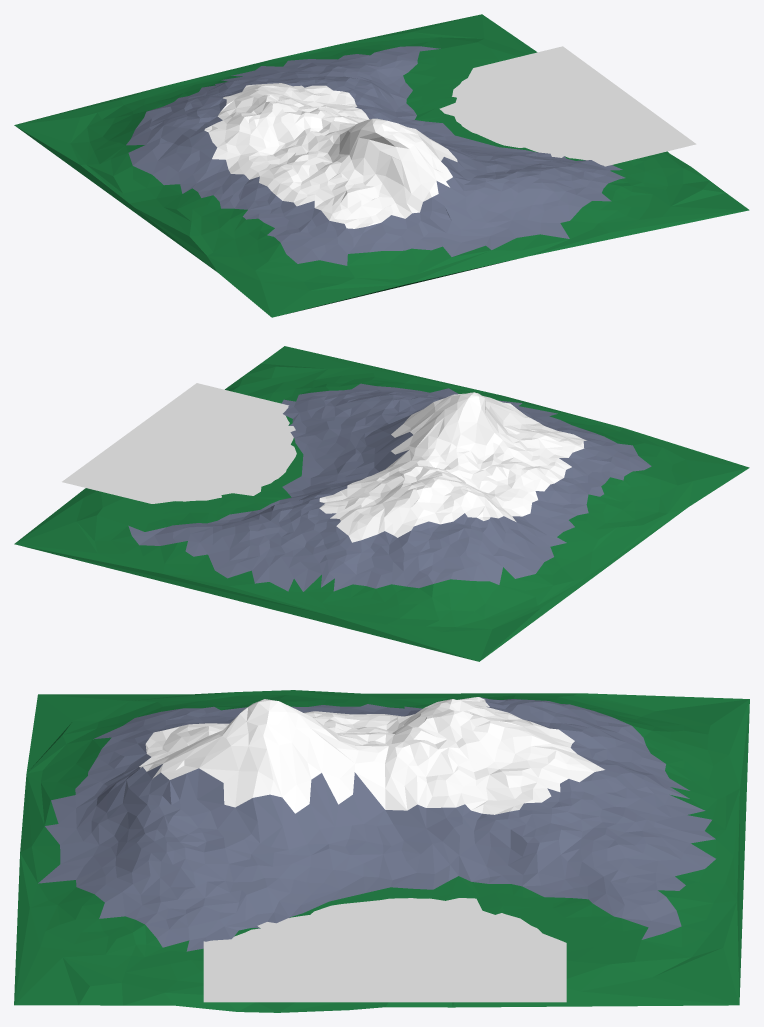
File: map.glb
3 renders of one model, top to bottom at view 1: azimuth 30°, elevation 25°; view 2: azimuth 150°, elevation 25°; view 3: azimuth 270°, elevation 25°, orthographic. The views are drawn at different scales.
Visible parts, largest first — view 1: Landscape.005, Plane; view 2: Landscape.005, Plane; view 3: Landscape.005, Plane.
Boxes of the visible parts, x1,y1,x2,y2 form: Landscape.005: (14,14,749,317); Plane: (439,46,696,166); Landscape.005: (14,346,749,661); Plane: (62,383,296,503); Landscape.005: (14,690,749,1012); Plane: (203,898,566,1002).
Size of the model in its own units: 419 by 76.36 by 406.
Materials: 1 (1 with a texture image).
